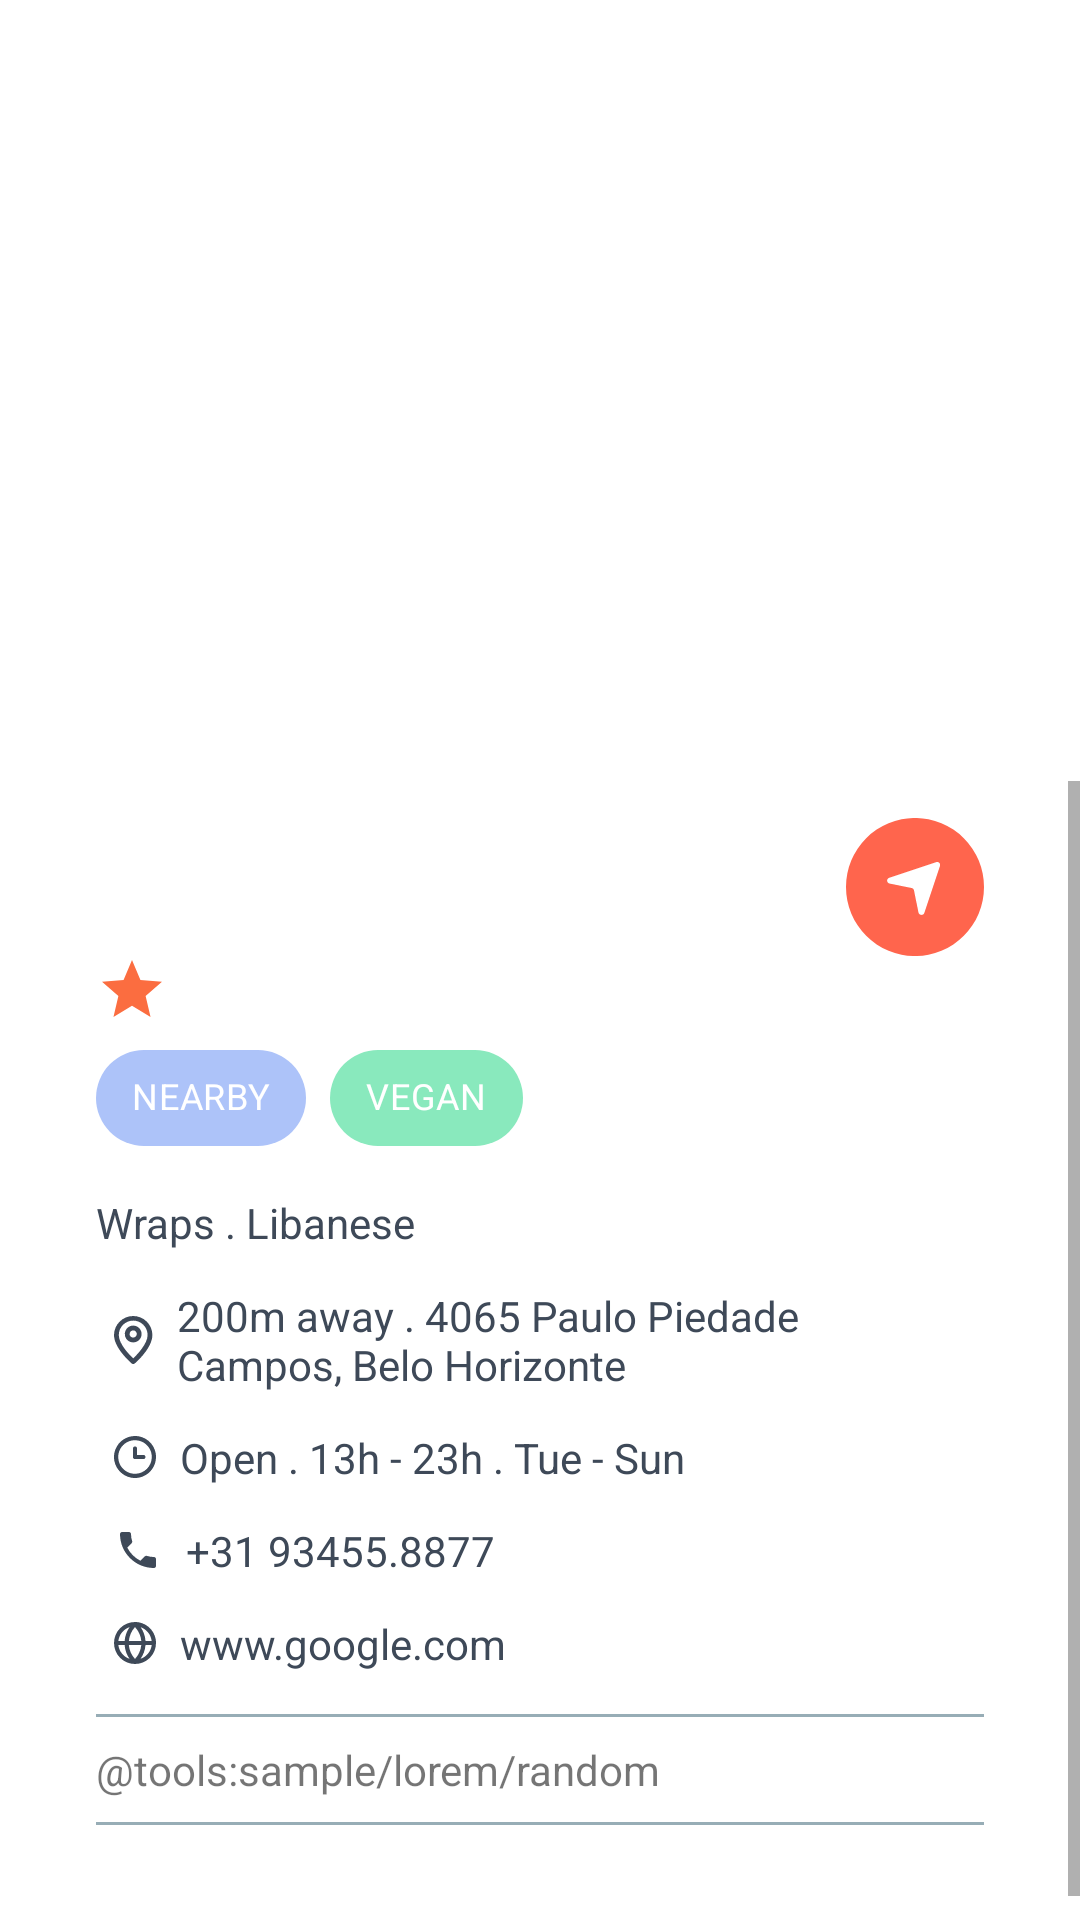

Locate icon controls on the screen. Image size 1080 × 1920, boxes as (x1, y1, x2, y2).
circle location: (846, 818, 984, 956)
